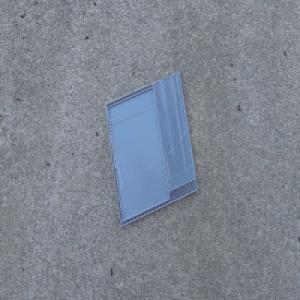PlasticPart: (104, 70, 198, 228)
